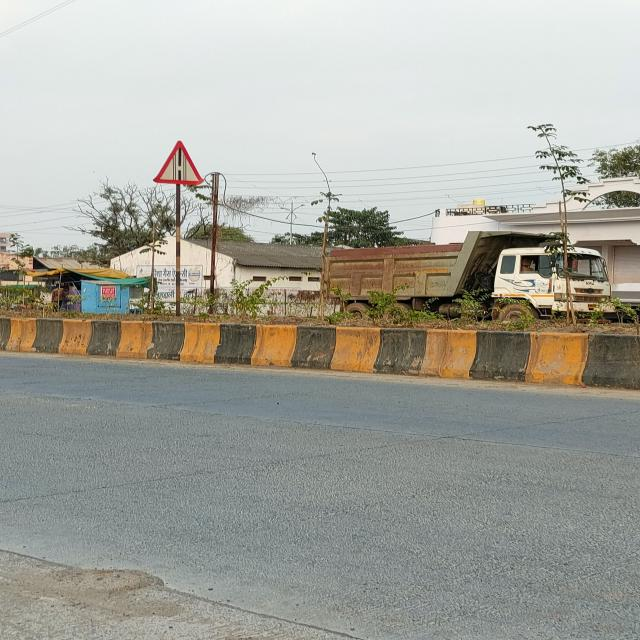GAP_IN_MEDIAN: (150, 139, 203, 184)
